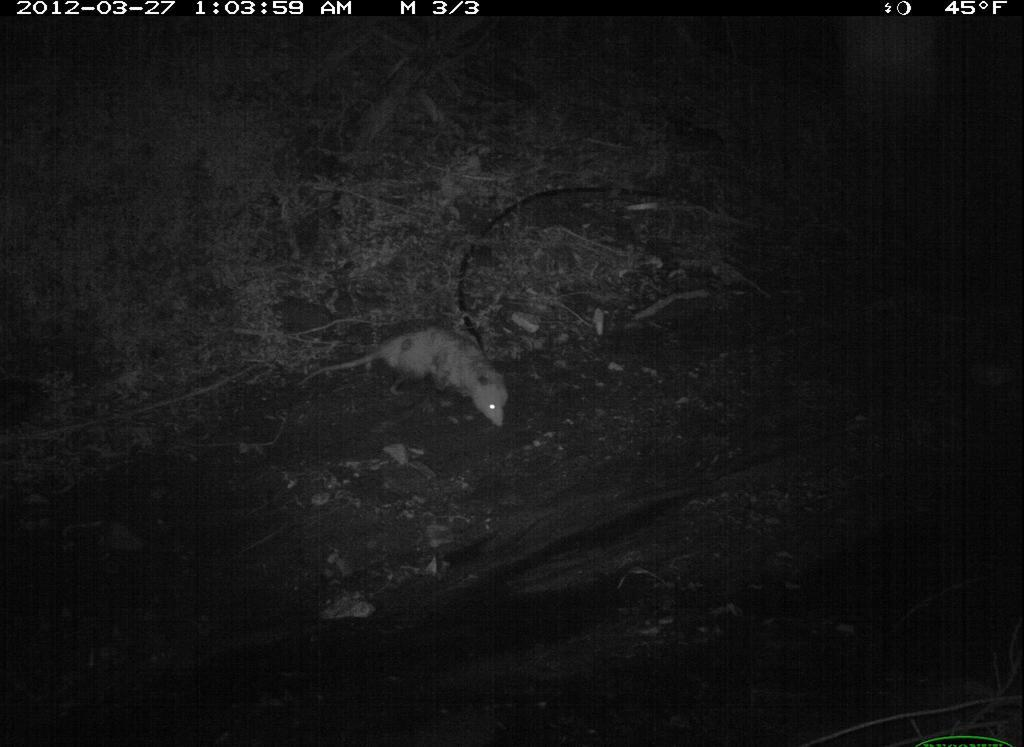opossum: (309, 321, 511, 438)
